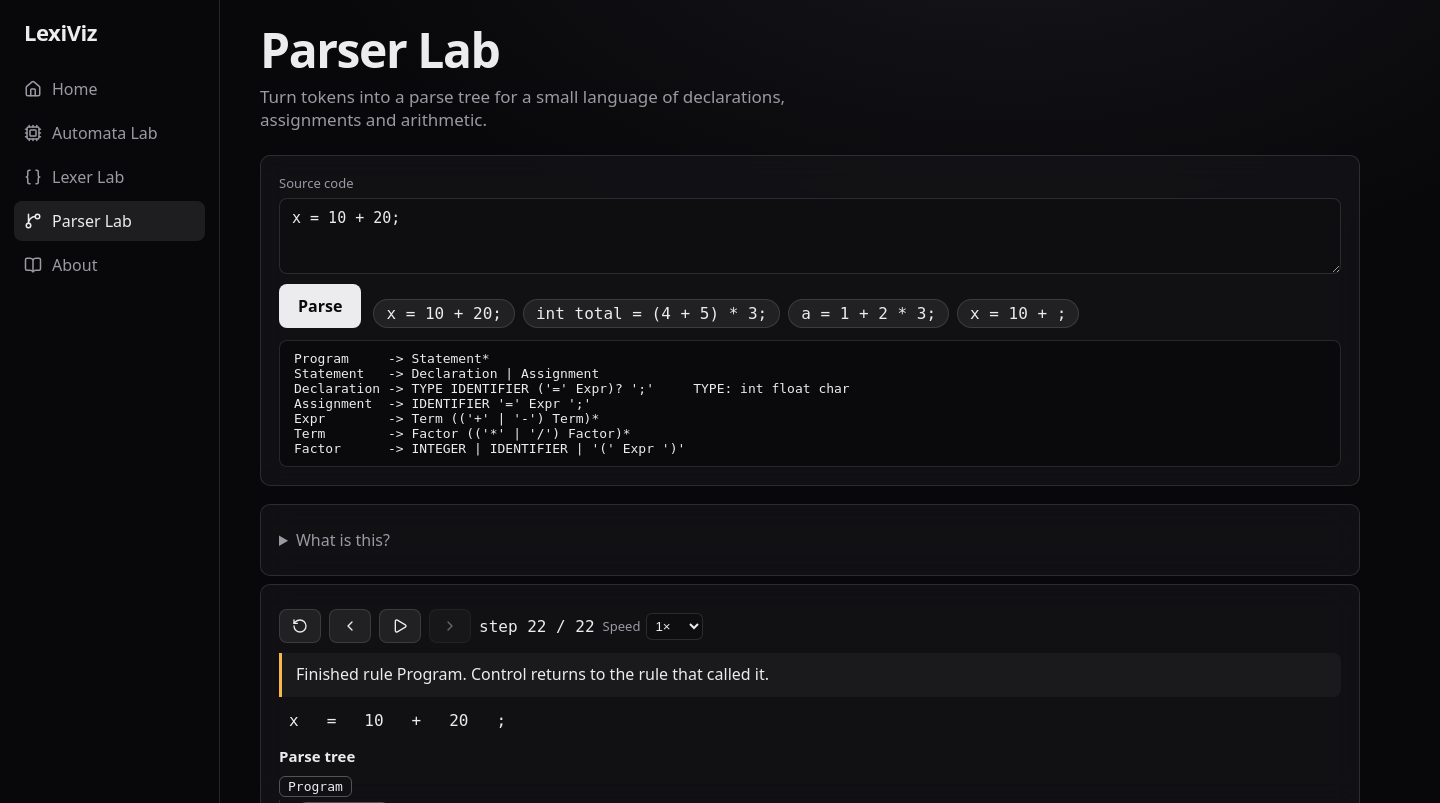
Parser Lab › a missing semicolon at the end of input points past the last character
Replace the text in the text box labelled "Source code" with "x = 1" at point(810, 236), box [279,198,1341,274]
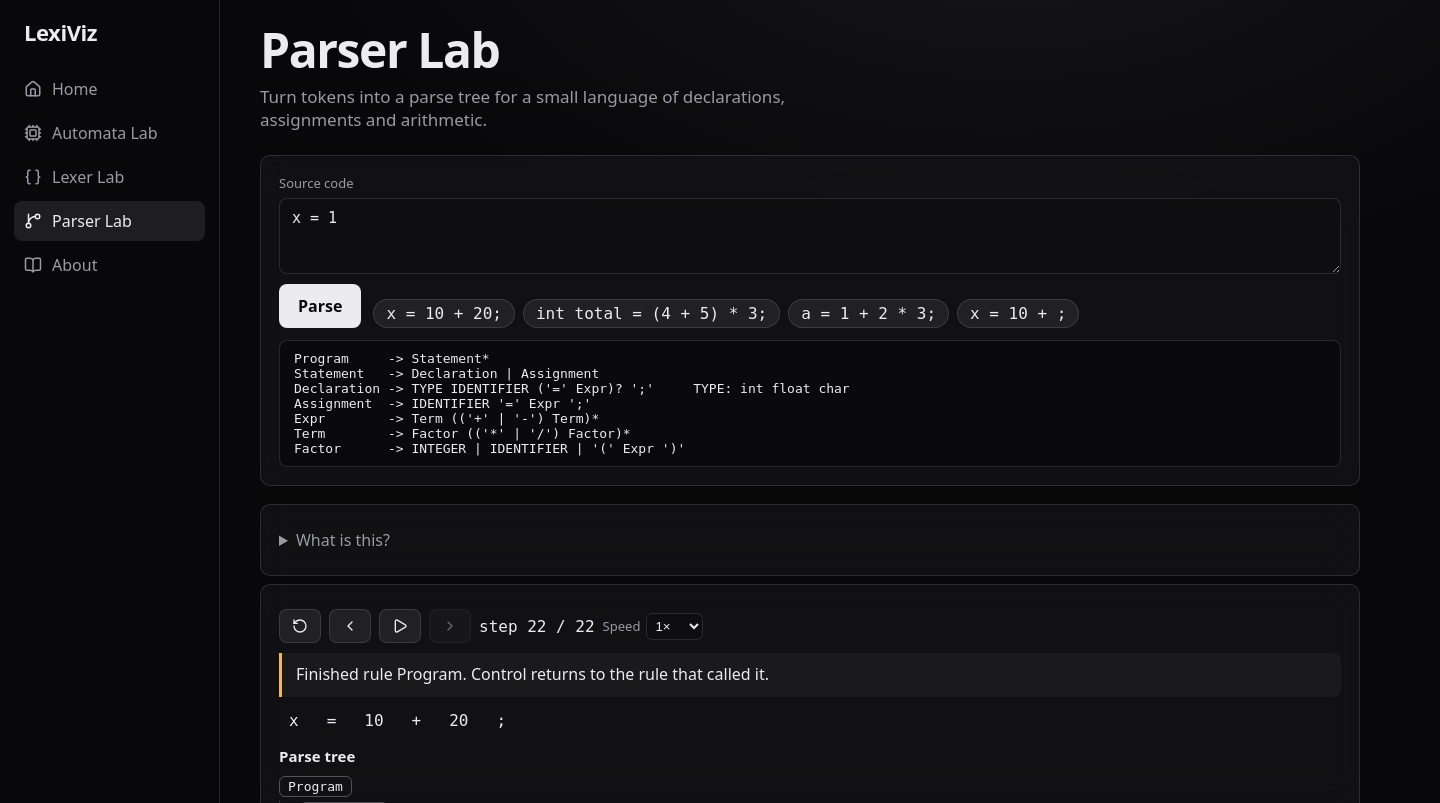
Click the button "Parse".
click(320, 306)  # box [279,284,361,328]
(page scrolled)
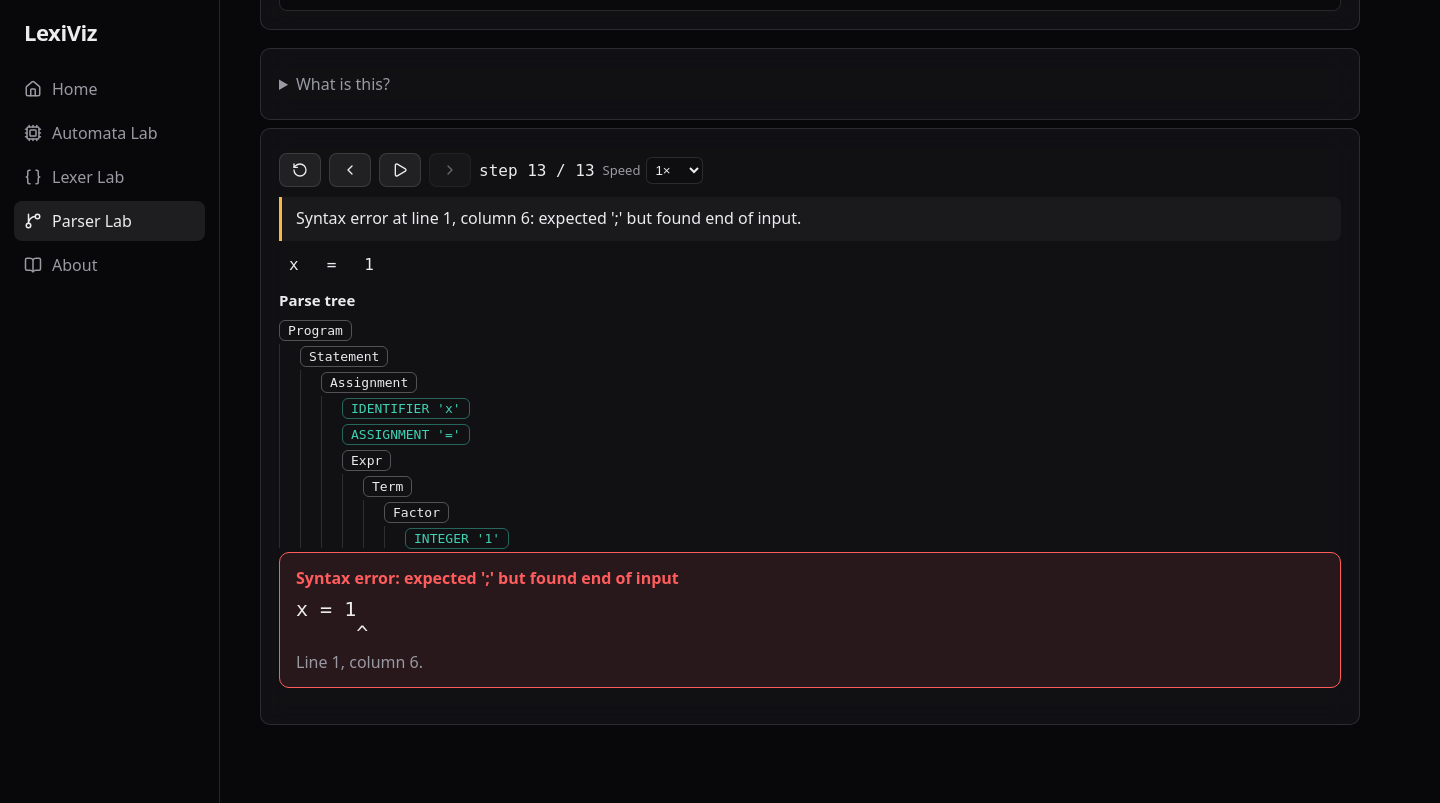
Check: the message shows "expected ';' but found end of input", box [296,567,679,589]
Check: the message shows "Line 1, column 6", box [279,552,1341,688]
